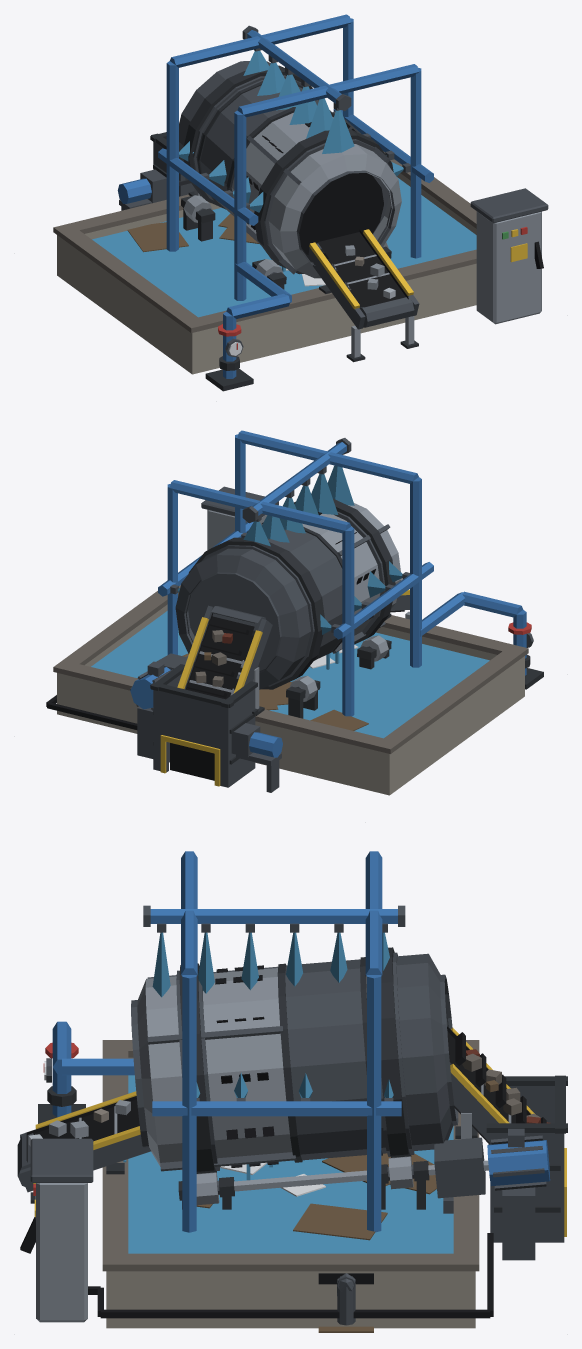
File: station_lavage_t2.glb
3 views of the same model, one above another, from view 1: azimuth 30°, elevation 25°; view 2: azimuth 150°, elevation 25°; view 3: azimuth 270°, elevation 25° (orthographic). The views are drawn at different scales.
Parts seen in each view (by area): view 1: pieces_bleu.006, pieces_beton.006, bassin_eau.002, tambour_crible.002, pieces_pierre.008, armoire.004, tambour_sortie_fond.002, tambour_debourbeur.002, pieces_acier_sombre.010, pieces_noir.010, pieces_fonte.010, tambour_bandage_0.003 (+15 smaller); view 2: pieces_bleu.006, pieces_beton.006, bassin_eau.002, pieces_acier_sombre.010, tambour_debourbeur.002, pieces_pierre.008, tambour_bandage_bord_1.002, pieces_noir.010, pieces_fonte.010, tambour_crible.002, tambour_bandage_1.004, pieces_jaune.008 (+13 smaller); view 3: pieces_bleu.006, tambour_debourbeur.002, bassin_eau.002, tambour_crible.002, pieces_beton.006, pieces_acier_sombre.010, pieces_pierre.008, pieces_noir.010, armoire.004, pieces_fonte.010, pieces_boue.002, galets_acier.002 (+19 smaller).
Boxes of the visible parts, x1,y1,x2,y2 form: pieces_bleu.006: (117,14,433,378); pieces_beton.006: (57,173,476,374); bassin_eau.002: (92,177,476,317); tambour_crible.002: (231,112,401,278); pieces_pierre.008: (53,151,476,332); armoire.004: (476,211,541,324); tambour_sortie_fond.002: (299,173,383,258); tambour_debourbeur.002: (179,61,332,216); pieces_acier_sombre.010: (119,25,419,329); pieces_noir.010: (317,230,543,307); pieces_fonte.010: (150,132,418,391); tambour_bandage_0.003: (254,129,393,274); pieces_bleu.006: (130,430,526,757); pieces_beton.006: (57,604,524,795); bassin_eau.002: (91,611,489,738); pieces_acier_sombre.010: (130,438,409,792); tambour_debourbeur.002: (175,529,342,689); pieces_pierre.008: (53,585,528,753); tambour_bandage_bord_1.002: (188,545,314,686); pieces_noir.010: (46,610,404,780); pieces_fonte.010: (150,613,543,764); tambour_crible.002: (302,503,401,643); tambour_bandage_1.004: (188,537,323,689); pieces_jaune.008: (160,589,409,786); pieces_bleu.006: (52,851,550,1232); tambour_debourbeur.002: (285,953,453,1160); bassin_eau.002: (128,1075,453,1253); tambour_crible.002: (137,968,292,1166); pieces_beton.006: (106,1057,475,1328); pieces_acier_sombre.010: (17,905,564,1325); pieces_pierre.008: (102,1040,479,1271); pieces_noir.010: (20,1026,530,1318); armoire.004: (36,1183,87,1322); pieces_fonte.010: (30,1075,567,1212); pieces_boue.002: (196,1153,436,1332); galets_acier.002: (196,1156,488,1205).
Size of the model in its own units: 1.5 by 0.9315 by 1.5.
